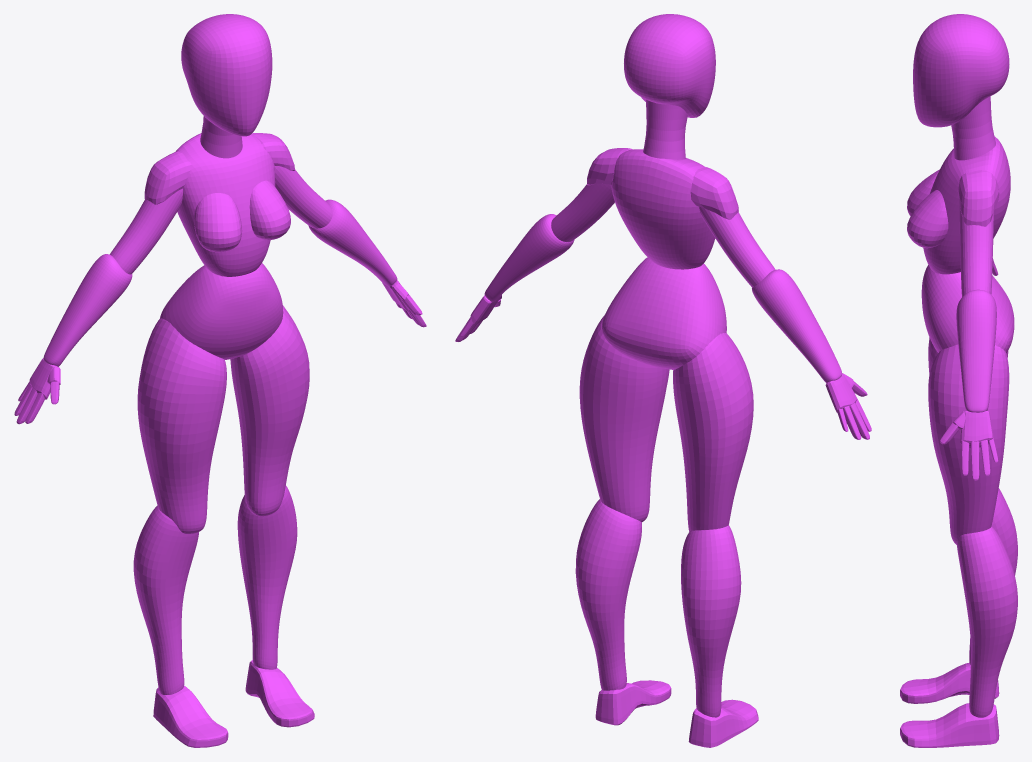
The picture shows the model from 3 angles, left to right: view 1: azimuth 30°, elevation 25°; view 2: azimuth 150°, elevation 25°; view 3: azimuth 270°, elevation 25°; orthographic projection.
Parts seen in each view (by area): view 1: Thighs, Shin, body, Face, Elbow, Arm, Abdomen, Feet, hand, Back, BikiniArea, Neck (+1 smaller); view 2: Thighs, Back, Shin, Face, Arm, Elbow, Feet, hand, Neck, BikiniArea, body, Armpit; view 3: Thighs, Shin, Face, body, Feet, Elbow, Arm, Back, hand, Abdomen, Neck, Armpit.
Boxes of the visible parts, bbox=[...] form: Thighs: bbox=[137, 305, 309, 534]; Shin: bbox=[133, 485, 297, 694]; body: bbox=[157, 133, 290, 695]; Face: bbox=[181, 14, 272, 136]; Elbow: bbox=[105, 133, 332, 274]; Arm: bbox=[43, 199, 397, 366]; Abdomen: bbox=[184, 263, 283, 348]; Feet: bbox=[153, 660, 314, 747]; hand: bbox=[14, 280, 426, 424]; Back: bbox=[160, 209, 264, 337]; BikiniArea: bbox=[201, 325, 271, 359]; Neck: bbox=[200, 116, 242, 158]; Thighs: bbox=[579, 315, 753, 530]; Back: bbox=[601, 155, 726, 356]; Shin: bbox=[575, 499, 741, 717]; Face: bbox=[624, 14, 715, 152]; Arm: bbox=[484, 214, 842, 382]; Elbow: bbox=[551, 148, 779, 287]; Feet: bbox=[595, 680, 758, 747]; hand: bbox=[455, 295, 871, 439]; Neck: bbox=[643, 99, 687, 159]; BikiniArea: bbox=[602, 329, 696, 369]; body: bbox=[499, 148, 729, 718]; Armpit: bbox=[590, 183, 722, 226]; Thighs: bbox=[928, 337, 1009, 544]; Shin: bbox=[957, 488, 1017, 715]; Face: bbox=[913, 14, 1009, 155]; body: bbox=[907, 136, 996, 716]; Feet: bbox=[900, 663, 999, 747]; Elbow: bbox=[958, 170, 999, 296]; Arm: bbox=[956, 289, 996, 412]; Back: bbox=[945, 137, 1014, 348]; hand: bbox=[940, 258, 998, 480]; Abdomen: bbox=[921, 265, 957, 352]; Neck: bbox=[951, 96, 995, 160]; Armpit: bbox=[948, 199, 996, 223].
Size of the model in its own units: 4.58 by 7.49 by 1.15.
